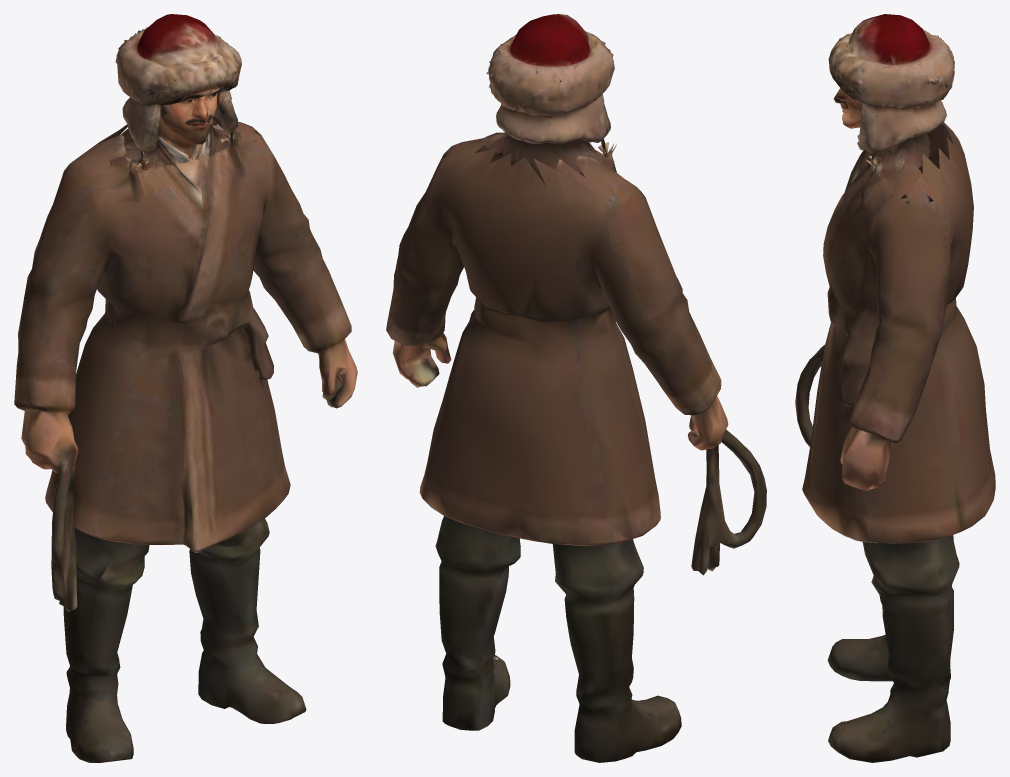
File: herder-dauren.gen.phone.glb
3 renders of one model, left to right at view 1: azimuth 30°, elevation 25°; view 2: azimuth 150°, elevation 25°; view 3: azimuth 270°, elevation 25°, orthographic.
Parts seen in each view (by area): view 1: herder-dauren.raw; view 2: herder-dauren.raw; view 3: herder-dauren.raw.
Part boxes in pixels (<box>): herder-dauren.raw: <box>14,14,357,762</box>; herder-dauren.raw: <box>386,14,766,762</box>; herder-dauren.raw: <box>795,14,995,762</box>.
Size of the model in its own units: 0.9165 by 1.85 by 0.4826.
1 material, 1 textured.
